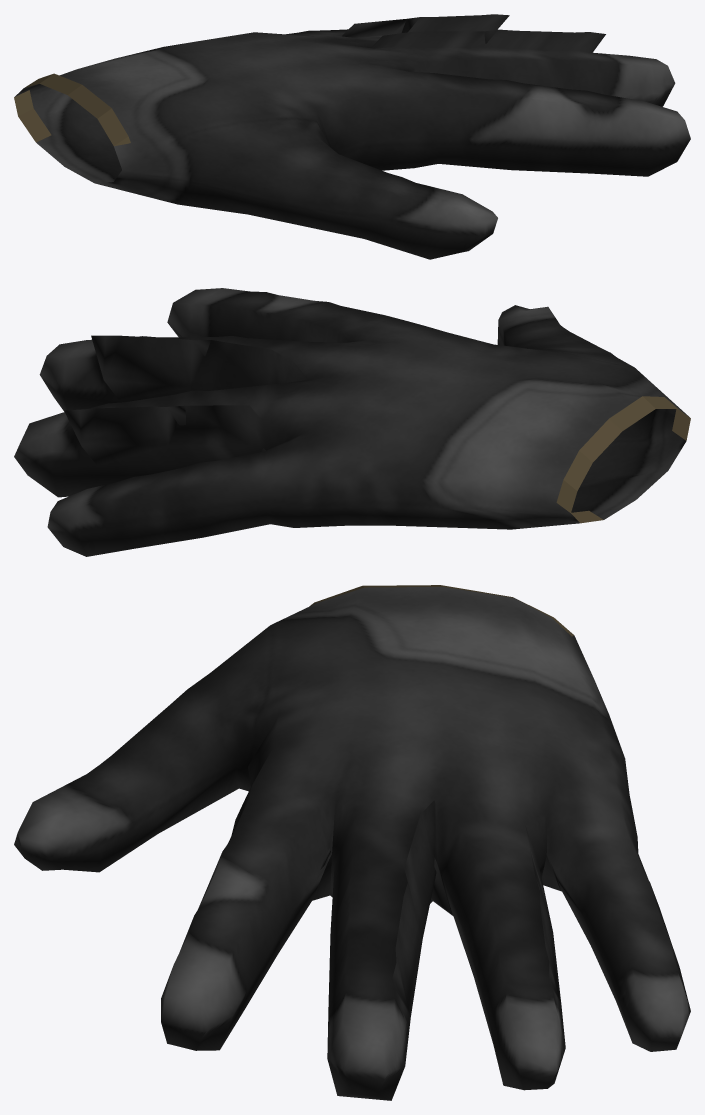
The model's file is GloveObject.fbx.
3 views of the same model, one above another, from view 1: azimuth 30°, elevation 25°; view 2: azimuth 150°, elevation 25°; view 3: azimuth 270°, elevation 25° (orthographic). The views are drawn at different scales.
Visible parts, largest first — view 1: Plane.014; view 2: Plane.014; view 3: Plane.014.
Boxes of the visible parts, x1,y1,x2,y2 form: Plane.014: (14, 14, 690, 259); Plane.014: (14, 288, 690, 556); Plane.014: (14, 585, 690, 1100).
Bounding box in the file's own units: 14.29 × 3.75 × 11.29.
